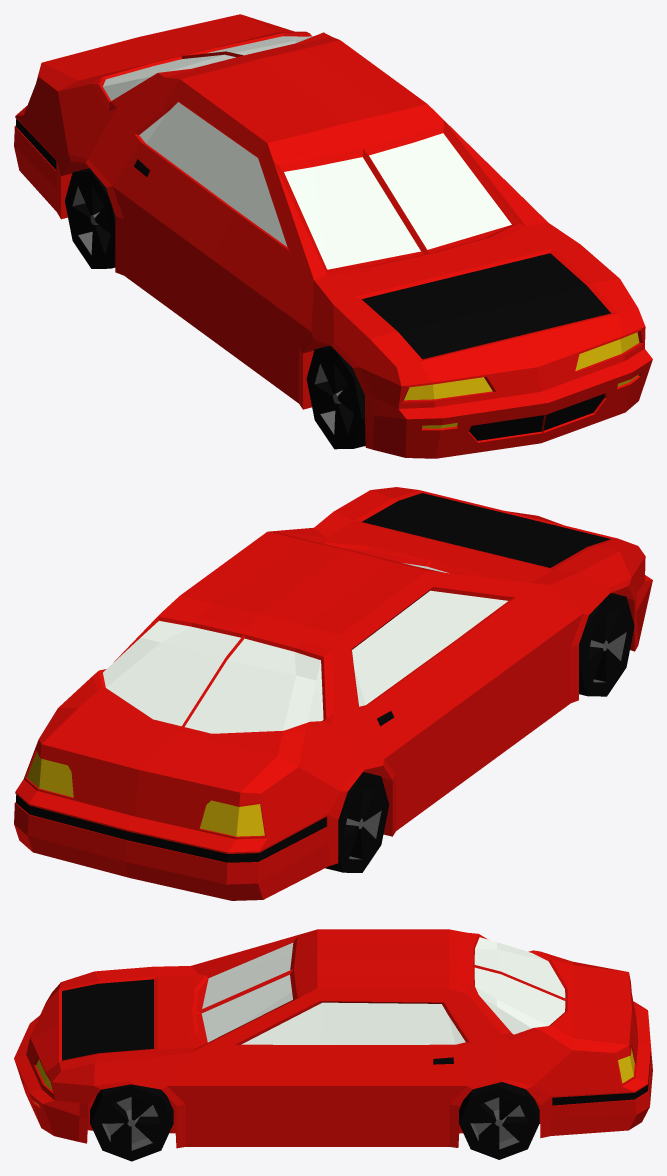
File: COCH4_1.fbx
3 renders of one model, top to bottom at view 1: azimuth 30°, elevation 25°; view 2: azimuth 150°, elevation 25°; view 3: azimuth 270°, elevation 25°, orthographic. The views are drawn at different scales.
Parts seen in each view (by area): view 1: NPC, Vidrios, Capó, Ruedas, Parachoques, Luces; view 2: NPC, Vidrios, Capó, Ruedas, Luces, Parachoques; view 3: NPC, Vidrios, Capó, Ruedas, Parachoques, Luces.
Part boxes in pixels (left/top/right/bottom): NPC: left=14, top=14, right=652, bottom=458; Vidrios: left=103, top=36, right=511, bottom=269; Capó: left=361, top=253, right=610, bottom=359; Ruedas: left=306, top=345, right=365, bottom=449; Parachoques: left=16, top=119, right=604, bottom=440; Luces: left=404, top=332, right=639, bottom=428; NPC: left=14, top=487, right=652, bottom=900; Vidrios: left=103, top=563, right=507, bottom=733; Capó: left=362, top=493, right=610, bottom=567; Ruedas: left=579, top=593, right=634, bottom=696; Luces: left=27, top=752, right=264, bottom=836; Parachoques: left=16, top=795, right=326, bottom=862; NPC: left=14, top=929, right=652, bottom=1159; Vidrios: left=201, top=937, right=565, bottom=1044; Capó: left=62, top=979, right=153, bottom=1060; Ruedas: left=90, top=1084, right=173, bottom=1161; Parachoques: left=552, top=1052, right=650, bottom=1105; Luces: left=34, top=1048, right=634, bottom=1105.
Size of the model in its own units: 123 by 85.88 by 325.
